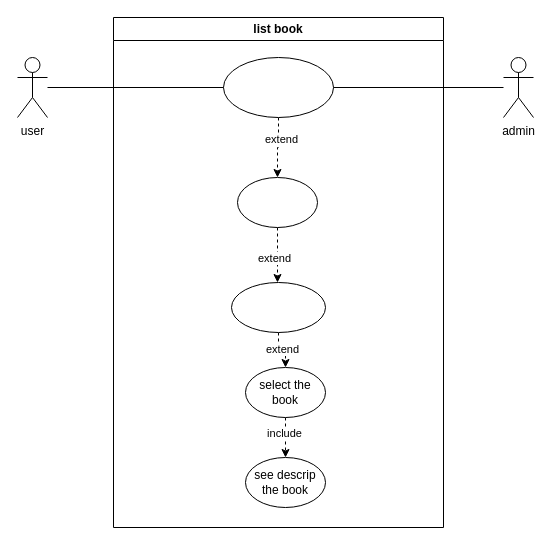
The diagram is 552 pixels wide and 545 high, and some of its shapes have lost their labels. The box of each missing label's shape, as (x1, y1, x2, y2) in pixels:
filter books: (236, 176, 318, 228)
menu: (222, 56, 334, 118)
View the book catalog: (230, 282, 326, 332)
